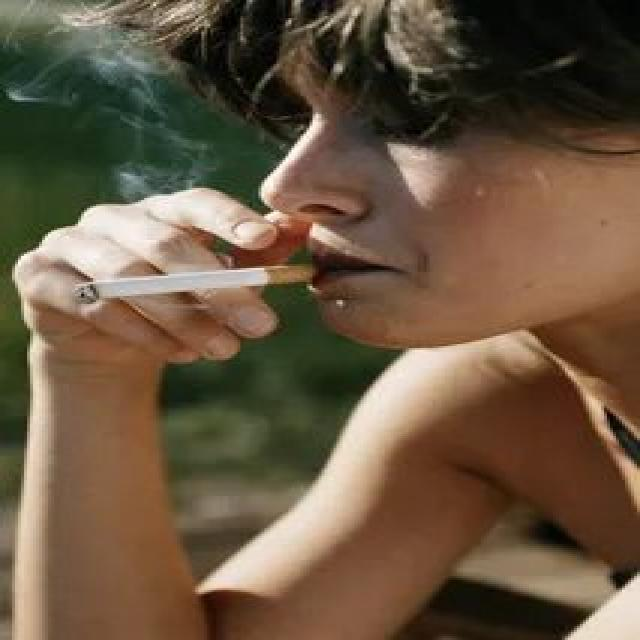cigarette: (66, 258, 334, 308)
